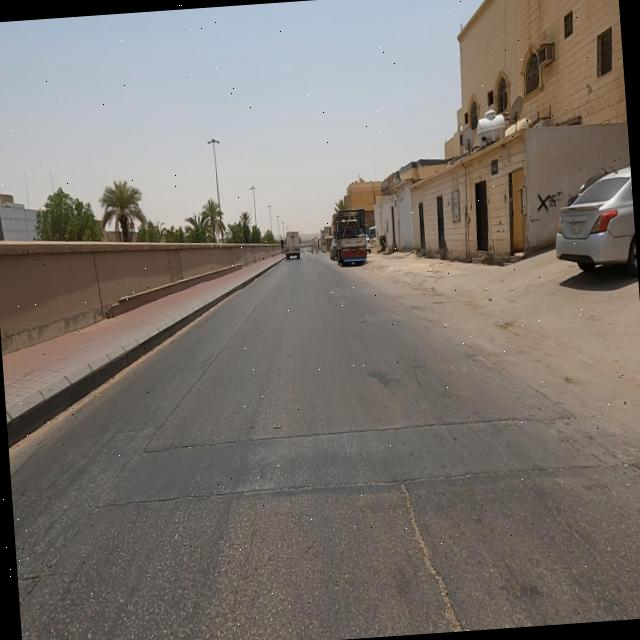Graffiti: (537, 188, 565, 214)
